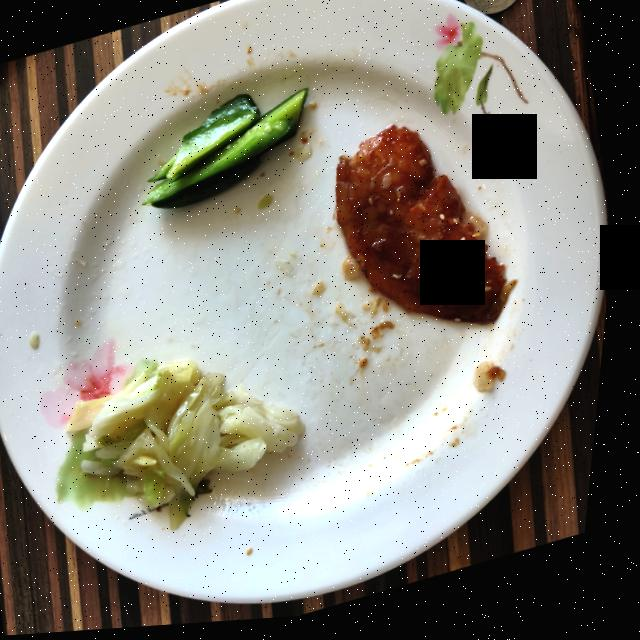Kabayaki sea bream fillet: (340, 131, 522, 331)
cabbage: (74, 362, 313, 532)
coin: (463, 0, 521, 21)
cucumber: (147, 92, 309, 211)
